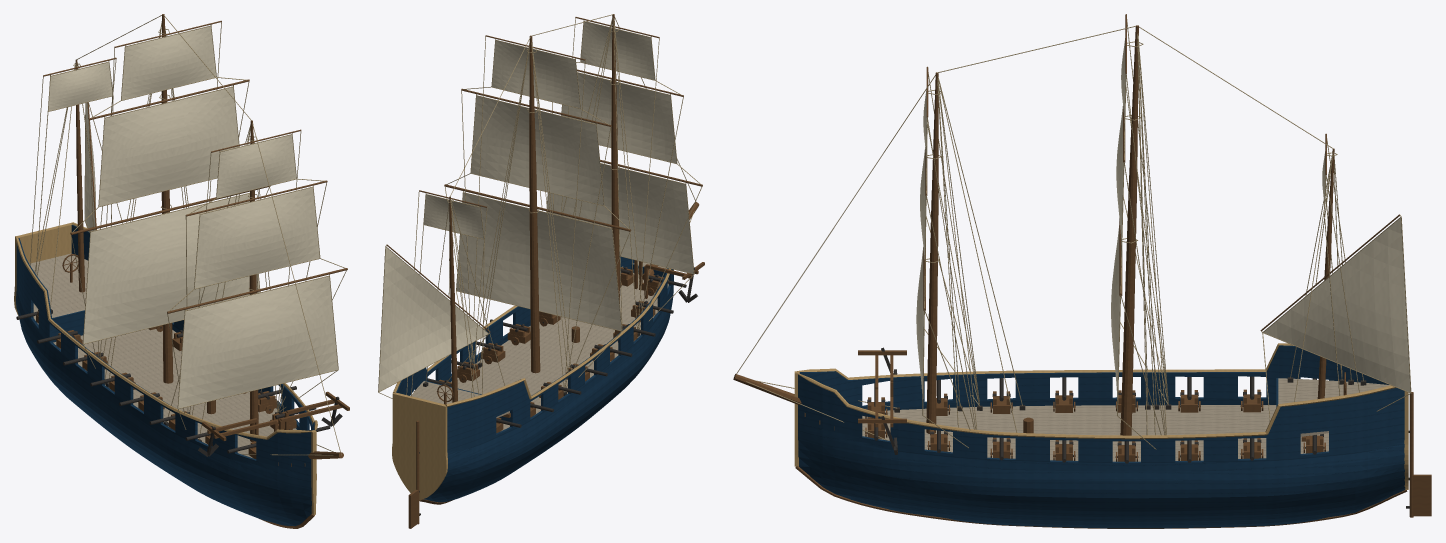
The model's file is ship.glb.
3 views of the same model, side by side, from view 1: azimuth 30°, elevation 25°; view 2: azimuth 150°, elevation 25°; view 3: azimuth 270°, elevation 25° (orthographic). The views are drawn at different scales.
Visible parts, largest first — view 1: hull_shell_starboard, fore_square_00, main_square_00, main_square_01, fore_square_01, main_deck, main_square_02, fore_square_02, castle_deck_0, mizzen_square_00, stern_closure, gunwale_starboard (+11 smaller); view 2: hull_shell_starboard, main_square_00, main_square_01, fore_square_00, mizzen_lateen_01, main_deck, fore_square_01, stern_closure, main_square_02, fore_square_02, main, hull_shell_port (+14 smaller); view 3: hull_shell_port, mizzen_lateen_01, hull_shell_starboard, main_deck, main, fore, gunwale_port, castle_deck_0, gunwale_starboard, keel, main_square_00, mizzen (+1 smaller).
Part boxes in pixels (left/top/right/bottom): hull_shell_starboard: left=16, top=238, right=311, bottom=526; fore_square_00: left=178, top=276, right=337, bottom=408; main_square_00: left=83, top=193, right=259, bottom=343; main_square_01: left=99, top=87, right=238, bottom=206; fore_square_01: left=194, top=187, right=319, bottom=288; main_deck: left=33, top=303, right=296, bottom=457; main_square_02: left=121, top=26, right=216, bottom=99; fore_square_02: left=217, top=135, right=296, bottom=197; castle_deck_0: left=29, top=253, right=88, bottom=317; mizzen_square_00: left=48, top=62, right=112, bottom=111; stern_closure: left=14, top=222, right=72, bottom=315; gunwale_starboard: left=15, top=236, right=312, bottom=439; hull_shell_starboard: left=423, top=268, right=673, bottom=502; main_square_00: left=456, top=193, right=621, bottom=330; main_square_01: left=471, top=96, right=603, bottom=205; fore_square_00: left=547, top=164, right=693, bottom=273; mizzen_lateen_01: left=378, top=247, right=487, bottom=391; main_deck: left=451, top=273, right=668, bottom=430; fore_square_01: left=561, top=73, right=676, bottom=163; stern_closure: left=392, top=392, right=447, bottom=499; main_square_02: left=492, top=40, right=580, bottom=108; fore_square_02: left=580, top=22, right=654, bottom=79; main: left=529, top=35, right=540, bottom=373; hull_shell_port: left=396, top=256, right=638, bottom=395; hull_shell_port: left=798, top=374, right=1405, bottom=528; mizzen_lateen_01: left=1263, top=218, right=1410, bottom=392; hull_shell_starboard: left=799, top=345, right=1388, bottom=410; main_deck: left=862, top=405, right=1328, bottom=461; main: left=1120, top=25, right=1138, bottom=435; fore: left=926, top=72, right=938, bottom=433; gunwale_port: left=797, top=373, right=1396, bottom=439; castle_deck_0: left=1278, top=378, right=1390, bottom=436; gunwale_starboard: left=797, top=343, right=1293, bottom=379; keel: left=795, top=466, right=1407, bottom=528; main_square_00: left=1111, top=225, right=1120, bottom=399; mizzen: left=1317, top=148, right=1334, bottom=398.
Size of the model in its own units: 9.21 by 19.61 by 24.65.
Materials: 7 (7 with a texture image).
